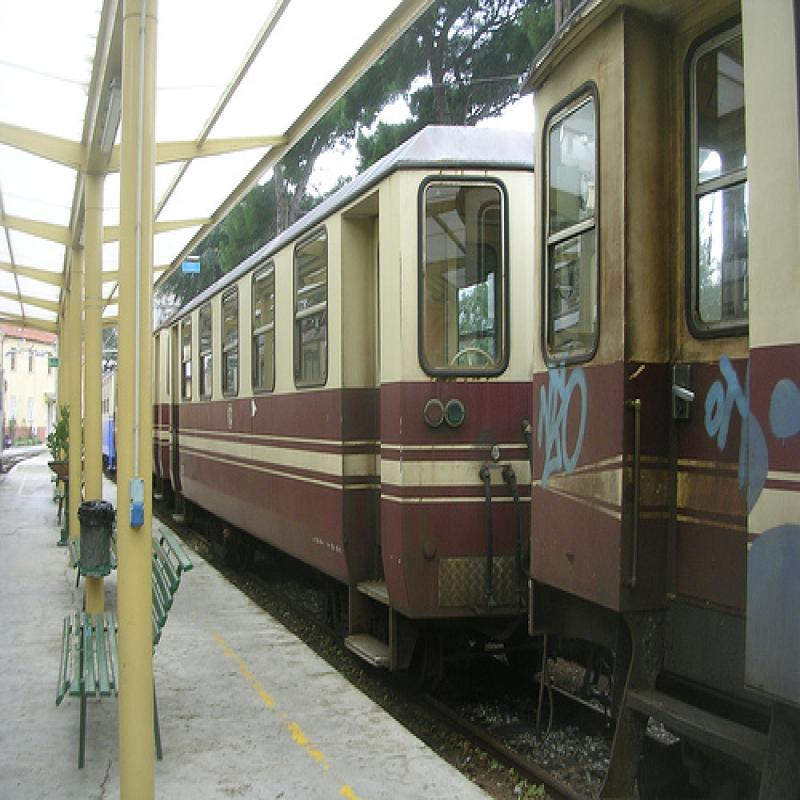train: (153, 3, 800, 800)
